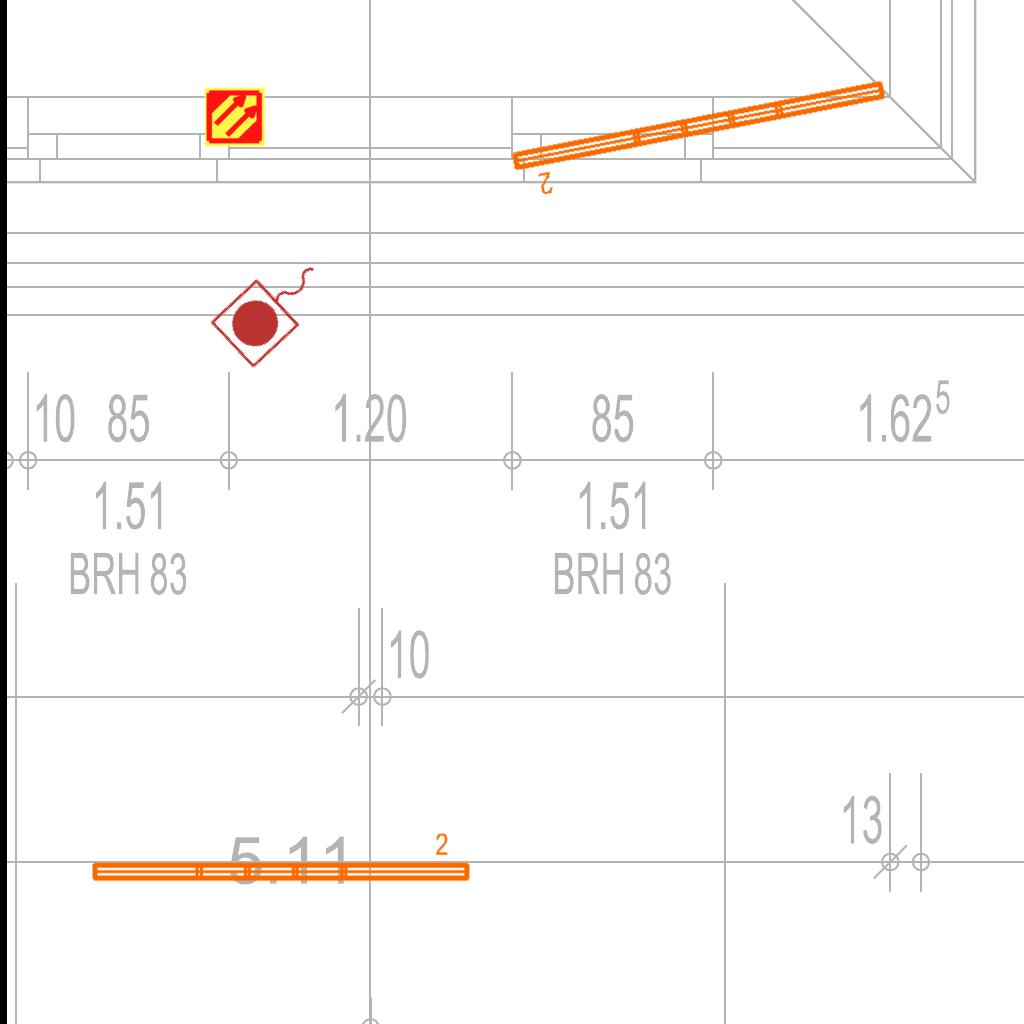ASR_Ansaugrauchmelder: (204, 86, 266, 148)
Ambulanz_Pendelleuchte_LED: (506, 73, 897, 203), (87, 831, 474, 887)
Zugtaster: (204, 239, 344, 375)
